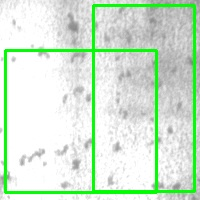pitted_surface: (5, 50, 156, 192), (93, 5, 194, 191)
